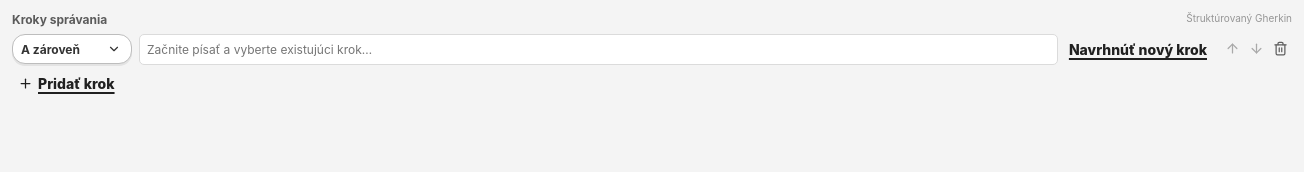
Test: BDDStepsEditor › inherits context for an initial And step and reports no matching definition
Click the dropdown named "Vyhľadať definíciu kroku 1" at (598, 50), box [139, 34, 1058, 65]
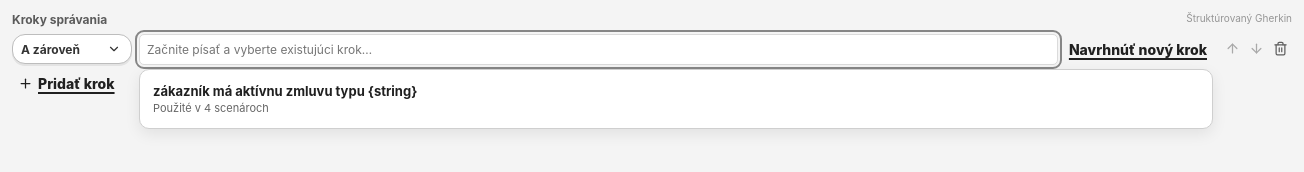
Now the option "zákazník má aktívnu zmluvu" is shown, box [145, 75, 1207, 123]
Type "nič také" into the dropdown named "Vyhľadať definíciu kroku 1" at (598, 50), box [139, 34, 1058, 65]
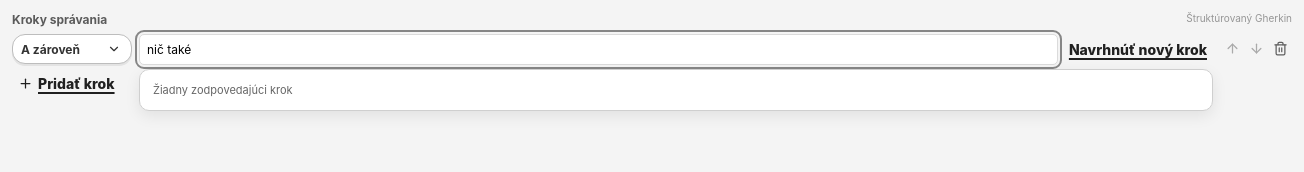
Now the text "Žiadny zodpovedajúci krok" is shown, box [153, 83, 293, 97]
